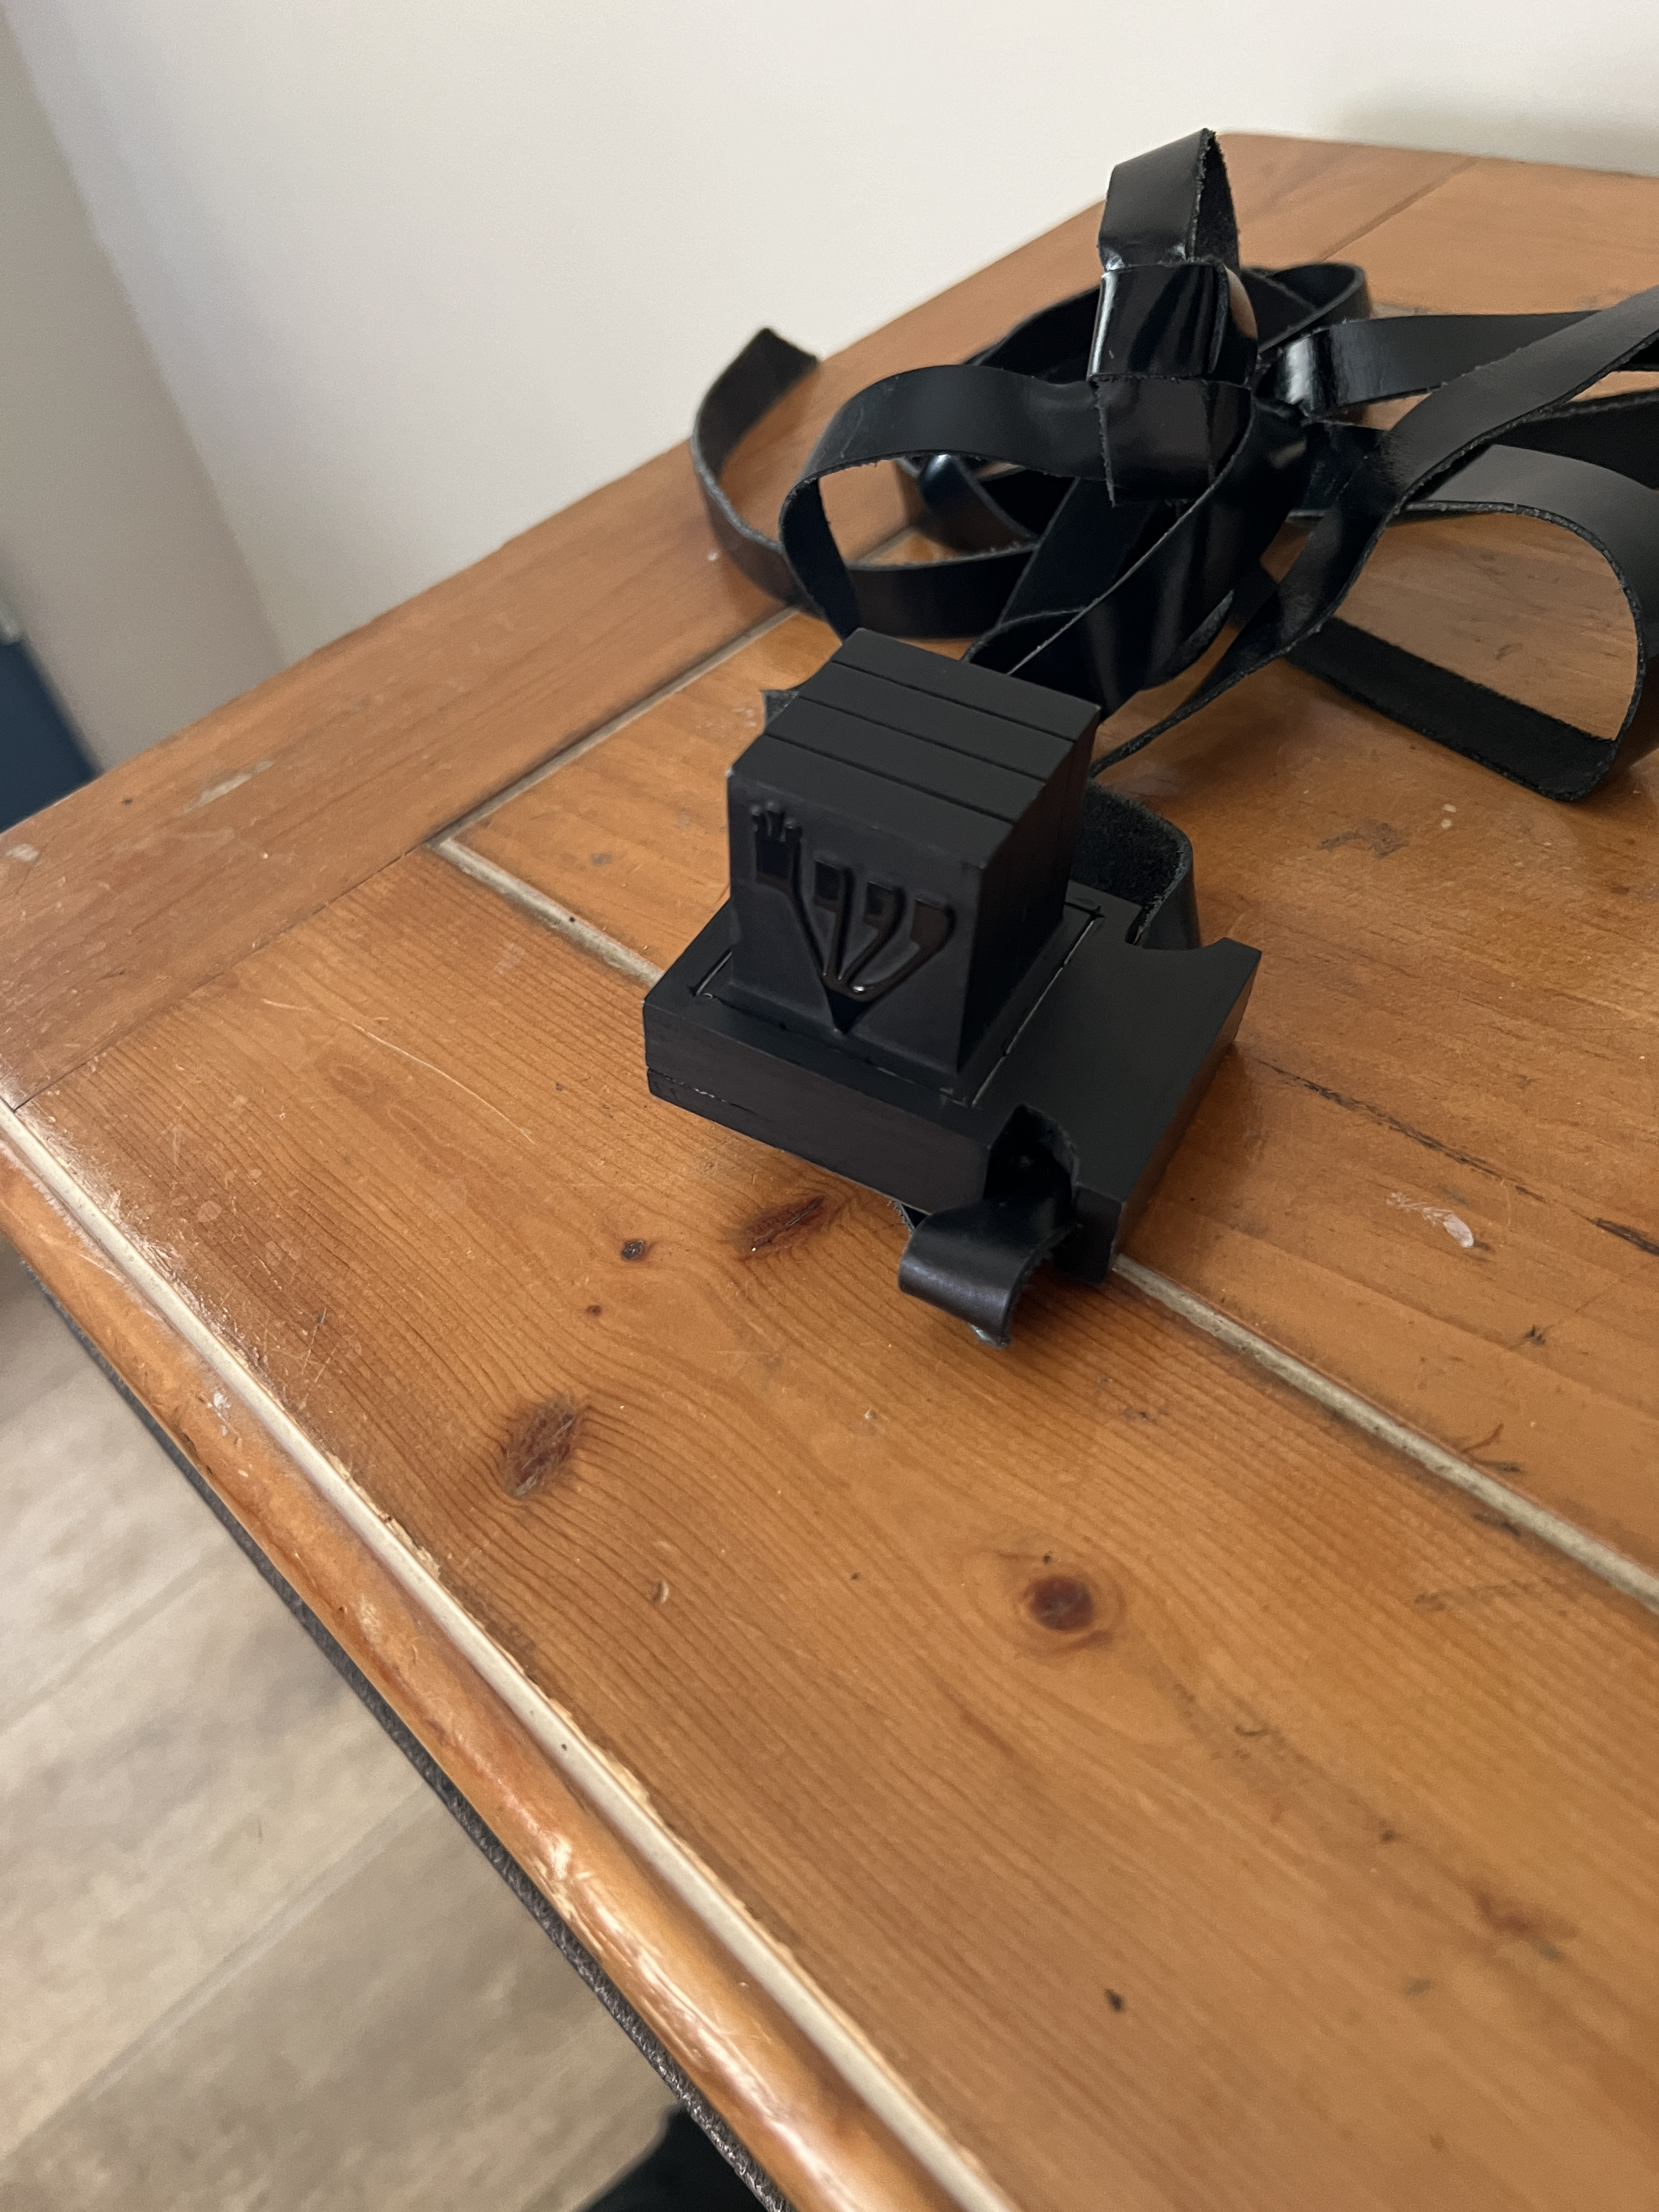tefillin: (641, 629, 1262, 1273)
